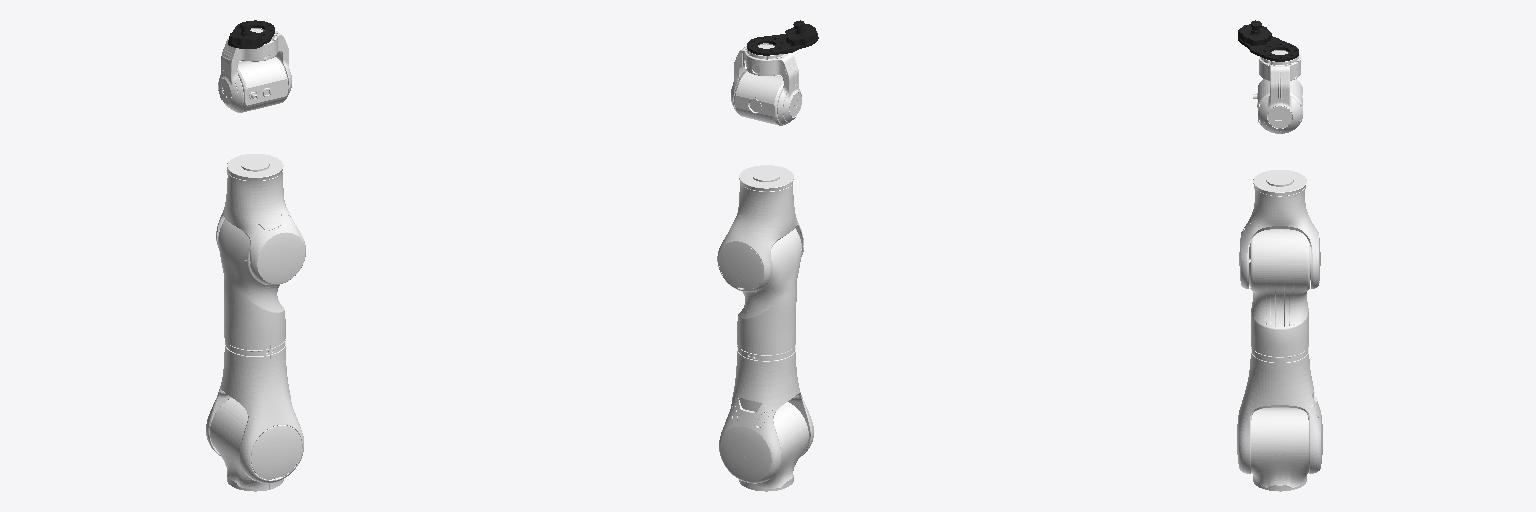
URDF robot description (AR5-5_08R-W4C1C9-ZY2):
<?xml version='1.0' encoding='UTF-8'?>
<robot xmlns:xacro="http://www.ros.org/wiki/xacro" name="AR5-5_08R-W4C1C9-ZY2">
  <!-- Constants for robot dimensions -->
  <material name="black">
    <color rgba="0.0 0.0 0.0 1.0"/>
  </material>
  <material name="blue">
    <color rgba="0.0 0.0 0.8 1.0"/>
  </material>
  <material name="green">
    <color rgba="0.0 0.8 0.0 1.0"/>
  </material>
  <material name="grey">
    <color rgba="0.2 0.2 0.2 1.0"/>
  </material>
  <material name="orange">
    <color rgba="1.0 0.423529411765 0.0392156862745 1.0"/>
  </material>
  <material name="brown">
    <color rgba="0.870588235294 0.811764705882 0.764705882353 1.0"/>
  </material>
  <material name="red">
    <color rgba="0.8 0.0 0.0 1.0"/>
  </material>
  <material name="white">
    <color rgba="1.0 1.0 1.0 1.0"/>
  </material>
  <material name="Beige">
    <color rgba="1.0 0.784 0.5765 1.0"/>
  </material>
  <!-- Used for fixing robot to Gazebo 'base_link' -->
  <link name="world"/>
  <joint name="fixed" type="fixed">
    <parent link="world"/>
    <child link="AR5-5_08R-W4C1C9-ZY2_base"/>
  </joint>
  <!--base-->
  <link name="AR5-5_08R-W4C1C9-ZY2_base">
    <visual>
      <geometry>
        <mesh filename="package://AR5-5_08R-W4C1C9-ZY2_description/meshes/AR5-5_08R-W4C1C9-ZY2_base.stl" scale="0.001 0.001 0.001"/>
      </geometry>
      <origin rpy="0 0 0" xyz="0.0 0.0 0.0"/>
      <material name="white"/>
    </visual>
    <collision>
      <geometry>
        <mesh filename="package://AR5-5_08R-W4C1C9-ZY2_description/meshes/AR5-5_08R-W4C1C9-ZY2_base.stl" scale="0.001 0.001 0.001"/>
      </geometry>
      <origin rpy="0 0 0" xyz="0.0 0.0 0.0"/>
    </collision>
  </link>
  <joint name="AR5-5_08R-W4C1C9-ZY2_joint_1" type="revolute">
    <parent link="AR5-5_08R-W4C1C9-ZY2_base"/>
    <child link="AR5-5_08R-W4C1C9-ZY2_link1"/>
    <limit effort="113" lower="-3.1067" upper="3.1067" velocity="3.0543261909900763"/>
    <axis xyz="0 0 1"/>
    <origin rpy="0 0 0" xyz="0.0 0.0 0.0"/>
  </joint>
  <!--link 1-->
  <link name="AR5-5_08R-W4C1C9-ZY2_link1">
    <visual>
      <geometry>
        <mesh filename="package://AR5-5_08R-W4C1C9-ZY2_description/meshes/AR5-5_08R-W4C1C9-ZY2_link1.stl" scale="0.001 0.001 0.001"/>
      </geometry>
      <origin rpy="0 0 0" xyz="0 0 0"/>
      <material name="white"/>
    </visual>
    <inertial>
      <mass value="2.166"/>
      <inertia ixx="0.00329374" ixy="0.00000029" ixz="0.00000048" iyy="0.00258807" iyz="0.00001496" izz="0.00314817"/>
      <origin rpy="0 0 0" xyz="0.000186 -0.0015429999999999999 0.172784"/>
    </inertial>
    <collision>
      <geometry>
        <mesh filename="package://AR5-5_08R-W4C1C9-ZY2_description/meshes/AR5-5_08R-W4C1C9-ZY2_link1.stl" scale="0.001 0.001 0.001"/>
      </geometry>
      <origin rpy="0 0 0" xyz="0 0 0"/>
    </collision>
  </link>
  <joint name="AR5-5_08R-W4C1C9-ZY2_joint_2" type="revolute">
    <parent link="AR5-5_08R-W4C1C9-ZY2_link1"/>
    <child link="AR5-5_08R-W4C1C9-ZY2_link2"/>
    <limit effort="113" lower="-2.0944" upper="2.0944" velocity="3.0543261909900763"/>
    <axis xyz="0 1 0"/>
    <origin rpy="0 0 0" xyz="0.0 0.0 0.1745"/>
  </joint>
  <!--link 2-->
  <link name="AR5-5_08R-W4C1C9-ZY2_link2">
    <visual>
      <geometry>
        <mesh filename="package://AR5-5_08R-W4C1C9-ZY2_description/meshes/AR5-5_08R-W4C1C9-ZY2_link2.stl" scale="0.001 0.001 0.001"/>
      </geometry>
      <origin rpy="0 0 0" xyz="0 0 0.0"/>
      <material name="white"/>
    </visual>
    <inertial>
      <mass value="1.903"/>
      <inertia ixx="0.00779827" ixy="0.00000248" ixz="0.00000226" iyy="0.00674843" iyz="0.00049284" izz="0.00305518"/>
      <origin rpy="0 0 0" xyz="1.7e-05 -0.001795 0.10669100000000001"/>
    </inertial>
    <collision>
      <geometry>
        <mesh filename="package://AR5-5_08R-W4C1C9-ZY2_description/meshes/AR5-5_08R-W4C1C9-ZY2_link2.stl" scale="0.001 0.001 0.001"/>
      </geometry>
      <origin rpy="0 0 0" xyz="0 0 0.0"/>
    </collision>
  </link>
  <joint name="AR5-5_08R-W4C1C9-ZY2_joint_3" type="revolute">
    <parent link="AR5-5_08R-W4C1C9-ZY2_link2"/>
    <child link="AR5-5_08R-W4C1C9-ZY2_link3"/>
    <limit effort="70" lower="-3.1067" upper="3.1067" velocity="4.71238898038469"/>
    <axis xyz="0 0 1"/>
    <origin rpy="0 0 0" xyz="0.0 0.0 0.332"/>
  </joint>
  <!--link 3-->
  <link name="AR5-5_08R-W4C1C9-ZY2_link3">
    <visual>
      <geometry>
        <mesh filename="package://AR5-5_08R-W4C1C9-ZY2_description/meshes/AR5-5_08R-W4C1C9-ZY2_link3.stl" scale="0.001 0.001 0.001"/>
      </geometry>
      <origin rpy="0 0 0" xyz="0 0 0"/>
      <material name="white"/>
    </visual>
    <inertial>
      <mass value="1.845"/>
      <inertia ixx="0.00635592" ixy="0.00001599" ixz="0.00029945" iyy="0.00581609" iyz="0.00004683" izz="0.00269115"/>
      <origin rpy="0 0 0" xyz="0.009022 0.0009 -0.019936"/>
    </inertial>
    <collision>
      <geometry>
        <mesh filename="package://AR5-5_08R-W4C1C9-ZY2_description/meshes/AR5-5_08R-W4C1C9-ZY2_link3.stl" scale="0.001 0.001 0.001"/>
      </geometry>
      <origin rpy="0 0 0" xyz="0 0 0"/>
    </collision>
  </link>
  <joint name="AR5-5_08R-W4C1C9-ZY2_joint_4" type="revolute">
    <parent link="AR5-5_08R-W4C1C9-ZY2_link3"/>
    <child link="AR5-5_08R-W4C1C9-ZY2_link4"/>
    <limit effort="70" lower="-1.0472" upper="2.5307" velocity="5.235987755982989"/>
    <!--     lower="-1.0472" upper="1.0472" -->
    <axis xyz="0 1 0"/>
    <!--     <origin rpy="0 0 0" xyz=0.0105 0.0 0.0/> -->
    <origin rpy="0 0 0" xyz="0.0105 0.0 0.0"/>
  </joint>
  <!--link 4-->
  <link name="AR5-5_08R-W4C1C9-ZY2_link4">
    <visual>
      <geometry>
        <mesh filename="package://AR5-5_08R-W4C1C9-ZY2_description/meshes/AR5-5_08R-W4C1C9-ZY2_link4.stl" scale=".001 0.001 0.001"/>
      </geometry>
      <origin rpy="0 0 0" xyz="0.0 0.0 0.0"/>
      <material name="white"/>
    </visual>
    <inertial>
      <mass value="1.037"/>
      <inertia ixx="0.00294610" ixy="0.00002481" ixz="-0.00011850" iyy="0.00244455" iyz="-0.00022011" izz="0.00140934"/>
      <origin rpy="0 0 0" xyz="-0.009272 0.002169 0.084042"/>
    </inertial>
    <collision>
      <geometry>
        <mesh filename="package://AR5-5_08R-W4C1C9-ZY2_description/meshes/AR5-5_08R-W4C1C9-ZY2_link4.stl" scale="0.001 0.001 0.001"/>
      </geometry>
      <origin rpy="0 0 0" xyz="0.0 0.0 0.0"/>
    </collision>
  </link>
  <joint name="AR5-5_08R-W4C1C9-ZY2_joint_5" type="revolute">
    <parent link="AR5-5_08R-W4C1C9-ZY2_link4"/>
    <child link="AR5-5_08R-W4C1C9-ZY2_link5"/>
    <limit effort="19" lower="-3.1067" upper="3.1067" velocity="4.1887902047863905"/>
    <axis xyz="0 0 1"/>
    <origin rpy="0 0 0" xyz="-0.0105 0.0 0.278"/>
  </joint>
  <!--link 5-->
  <link name="AR5-5_08R-W4C1C9-ZY2_link5">
    <visual>
      <geometry>
        <mesh filename="package://AR5-5_08R-W4C1C9-ZY2_description/meshes/AR5-5_08R-W4C1C9-ZY2_link5.stl" scale="0.001 0.001 0.001"/>
      </geometry>
      <origin rpy="0 0 0" xyz="0 0 0"/>
      <material name="white"/>
    </visual>
    <inertial>
      <mass value="1.279"/>
      <inertia ixx="0.00240951" ixy="0.00004151" ixz="-0.00004311" iyy="0.00200115" iyz="-0.00006491" izz="0.00158266"/>
      <origin rpy="0 0 0" xyz="-0.000776 -0.000804 -0.08673399999999999"/>
    </inertial>
    <collision>
      <geometry>
        <mesh filename="package://AR5-5_08R-W4C1C9-ZY2_description/meshes/AR5-5_08R-W4C1C9-ZY2_link5.stl" scale="0.001 0.001 0.001"/>
      </geometry>
      <origin rpy="0 0 0" xyz="0 0 0"/>
    </collision>
  </link>
  <joint name="AR5-5_08R-W4C1C9-ZY2_joint_6" type="revolute">
    <parent link="AR5-5_08R-W4C1C9-ZY2_link5"/>
    <child link="AR5-5_08R-W4C1C9-ZY2_link6"/>
    <limit effort="19" lower="-1.0472" upper="1.0472" velocity="4.1887902047863905"/>
    <axis xyz="0 1 0"/>
    <origin rpy="0.0 0.0 0" xyz="0.0 0.0 0.0"/>
  </joint>
  <!--link 6-->
  <link name="AR5-5_08R-W4C1C9-ZY2_link6">
    <visual>
      <geometry>
        <mesh filename="package://AR5-5_08R-W4C1C9-ZY2_description/meshes/AR5-5_08R-W4C1C9-ZY2_link6.stl" scale="0.001 0.001 0.001"/>
      </geometry>
      <origin rpy="0 0 0" xyz="0 0 0"/>
      <material name="white"/>
    </visual>
    <inertial>
      <mass value="0.906"/>
      <inertia ixx="0.00061487" ixy="0.00000092" ixz="-0.00000097" iyy="0.00074943" iyz="-0.00000047" izz="0.00076056"/>
      <origin rpy="0 0 0" xyz="-0.005059 -0.00025 -5.5e-05"/>
    </inertial>
    <collision>
      <geometry>
        <mesh filename="package://AR5-5_08R-W4C1C9-ZY2_description/meshes/AR5-5_08R-W4C1C9-ZY2_link6.stl" scale="0.001 0.001 0.001"/>
      </geometry>
      <origin rpy="0 0 0" xyz="0 0 0"/>
    </collision>
  </link>
  <joint name="AR5-5_08R-W4C1C9-ZY2_joint_7" type="revolute">
    <parent link="AR5-5_08R-W4C1C9-ZY2_link6"/>
    <child link="AR5-5_08R-W4C1C9-ZY2_link7"/>
    <limit effort="19" lower="-1.0472" upper="1.0472" velocity="4.1887902047863905"/>
    <axis xyz="1 0 0"/>
    <origin rpy="0.0 0.0 0" xyz="0.0 0.0 0.0"/>
  </joint>
  <!--link 7-->
  <link name="AR5-5_08R-W4C1C9-ZY2_link7">
    <visual>
      <geometry>
        <mesh filename="package://AR5-5_08R-W4C1C9-ZY2_description/meshes/AR5-5_08R-W4C1C9-ZY2_link7.stl" scale="0.001 0.001 0.001"/>
      </geometry>
      <origin rpy="0 0 0" xyz="0.0 0.0 0.0"/>
      <material name="white"/>
    </visual>
    <inertial>
      <mass value="0.33"/>
      <inertia ixx="0.00046020" ixy="-0.00000266" ixz="0.00004064" iyy="0.00068698" iyz="0.00000424" izz="0.00043963"/>
      <origin rpy="0 0 0" xyz="-0.00122 0.0006730000000000001 0.053984000000000004"/>
    </inertial>
    <collision>
      <geometry>
        <mesh filename="package://AR5-5_08R-W4C1C9-ZY2_description/meshes/AR5-5_08R-W4C1C9-ZY2_link7.stl" scale="0.001 0.001 0.001"/>
      </geometry>
      <origin rpy="0 0 0" xyz="0.0 0.0 0.0"/>
    </collision>
  </link>
  <link name="AR5-5_08R-W4C1C9-ZY2_flan_link">
    <visual>
      <geometry>
        <mesh filename="../meshes/right/wrist_fisheye_flange_assembly.stl" scale="0.001 0.001 0.001"/>
      </geometry>
      <origin rpy="0 0 -0.7853981634" xyz="0 0 0"/>
      <material name="grey"/>
    </visual>
    <collision>
      <geometry>
        <mesh filename="../meshes/right/wrist_fisheye_flange_assembly.stl" scale="0.001 0.001 0.001"/>
      </geometry>
      <origin rpy="0 0 -0.7853981634" xyz="0 0 0"/>
    </collision>
    <inertial>
      <origin rpy="0 0 0" xyz="0 0 0"/>
      <mass value="0"/>
      <inertia ixx="0" ixy="0" ixz="0" iyy="0" iyz="0" izz="0"/>
    </inertial>
  </link>
  <joint name="AR5-5_08R-W4C1C9-ZY2_flan_joint" type="fixed">
    <parent link="AR5-5_08R-W4C1C9-ZY2_link7"/>
    <child link="AR5-5_08R-W4C1C9-ZY2_flan_link"/>
    <origin rpy="0 0 0" xyz="0 0 0.09"/>
  </joint>
  <link name="AR5-5_08R-W4C1C9-ZY2_wrist_fisheye_frame">
    <inertial>
      <origin rpy="0 0 0" xyz="0 0 0"/>
      <mass value="0"/>
      <inertia ixx="0" ixy="0" ixz="0" iyy="0" iyz="0" izz="0"/>
    </inertial>
  </link>
  <joint name="AR5-5_08R-W4C1C9-ZY2_wrist_fisheye_joint" type="fixed">
    <parent link="AR5-5_08R-W4C1C9-ZY2_flan_link"/>
    <child link="AR5-5_08R-W4C1C9-ZY2_wrist_fisheye_frame"/>
    <origin rpy="0.1654200552 0 -0.7853981634" xyz="-0.04184658 -0.04184658 0.00988"/>
  </joint>
</robot>

--- Facts derived from the render (not from the file) ---
Views: 3 orthographic renders of the robot side by side, from view 1: azimuth 30°, elevation 25°; view 2: azimuth 150°, elevation 25°; view 3: azimuth 270°, elevation 25°.
Robot: AR5-5_08R-W4C1C9-ZY2 — 11 links, 10 joints (7 revolute, 3 fixed); root link world; default pose: every joint at zero.
Visible links, largest first — view 1: AR5-5_08R-W4C1C9-ZY2_link2, AR5-5_08R-W4C1C9-ZY2_link4, AR5-5_08R-W4C1C9-ZY2_link3, AR5-5_08R-W4C1C9-ZY2_link1, AR5-5_08R-W4C1C9-ZY2_link7, AR5-5_08R-W4C1C9-ZY2_link6, AR5-5_08R-W4C1C9-ZY2_flan_link; view 2: AR5-5_08R-W4C1C9-ZY2_link2, AR5-5_08R-W4C1C9-ZY2_link4, AR5-5_08R-W4C1C9-ZY2_link3, AR5-5_08R-W4C1C9-ZY2_link7, AR5-5_08R-W4C1C9-ZY2_link1, AR5-5_08R-W4C1C9-ZY2_link6, AR5-5_08R-W4C1C9-ZY2_flan_link; view 3: AR5-5_08R-W4C1C9-ZY2_link3, AR5-5_08R-W4C1C9-ZY2_link2, AR5-5_08R-W4C1C9-ZY2_link1, AR5-5_08R-W4C1C9-ZY2_link4, AR5-5_08R-W4C1C9-ZY2_link7, AR5-5_08R-W4C1C9-ZY2_flan_link, AR5-5_08R-W4C1C9-ZY2_link6.
Link boxes in pixels (x1,y1,x2,y2): AR5-5_08R-W4C1C9-ZY2_link2: (206, 339, 303, 482); AR5-5_08R-W4C1C9-ZY2_link4: (216, 154, 305, 284); AR5-5_08R-W4C1C9-ZY2_link3: (218, 219, 285, 349); AR5-5_08R-W4C1C9-ZY2_link1: (210, 398, 283, 491); AR5-5_08R-W4C1C9-ZY2_link7: (218, 28, 291, 111); AR5-5_08R-W4C1C9-ZY2_link6: (237, 57, 288, 112); AR5-5_08R-W4C1C9-ZY2_flan_link: (228, 20, 274, 48); AR5-5_08R-W4C1C9-ZY2_link2: (719, 345, 813, 483); AR5-5_08R-W4C1C9-ZY2_link4: (717, 165, 803, 291); AR5-5_08R-W4C1C9-ZY2_link3: (737, 228, 801, 354); AR5-5_08R-W4C1C9-ZY2_link7: (731, 43, 801, 124); AR5-5_08R-W4C1C9-ZY2_link1: (739, 402, 808, 491); AR5-5_08R-W4C1C9-ZY2_link6: (734, 71, 783, 125); AR5-5_08R-W4C1C9-ZY2_flan_link: (747, 20, 818, 55); AR5-5_08R-W4C1C9-ZY2_link3: (1249, 229, 1309, 356); AR5-5_08R-W4C1C9-ZY2_link2: (1237, 347, 1322, 473); AR5-5_08R-W4C1C9-ZY2_link1: (1251, 408, 1308, 491); AR5-5_08R-W4C1C9-ZY2_link4: (1239, 170, 1320, 288); AR5-5_08R-W4C1C9-ZY2_link7: (1258, 50, 1301, 133); AR5-5_08R-W4C1C9-ZY2_flan_link: (1238, 20, 1298, 61); AR5-5_08R-W4C1C9-ZY2_link6: (1253, 79, 1302, 133).
Size in the robot's own frame: 0.1313 by 0.1417 by 0.8121 metres.
7 mesh visuals loaded from 9 distinct referenced files (7 binary STL); not drawn: 2 (reference not matched to a file when rendering).
